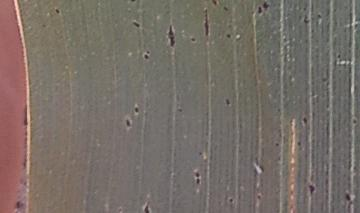tarspot: (199, 6, 215, 38), (163, 23, 178, 50), (305, 180, 318, 197), (193, 169, 203, 186), (140, 200, 153, 213), (343, 189, 353, 204), (298, 114, 310, 126), (13, 198, 25, 210), (301, 14, 312, 27), (123, 116, 133, 129), (132, 104, 142, 116), (223, 96, 233, 108), (187, 34, 199, 44), (175, 104, 185, 116), (195, 148, 207, 158), (130, 20, 142, 29), (262, 1, 272, 11), (143, 48, 151, 60), (53, 7, 62, 17), (224, 31, 234, 40), (272, 139, 282, 148), (254, 192, 263, 202), (350, 118, 358, 129), (227, 196, 236, 205), (336, 52, 344, 62), (210, 1, 221, 8), (255, 6, 262, 17), (296, 138, 303, 149), (314, 11, 322, 20), (301, 5, 308, 14), (128, 1, 138, 5)
